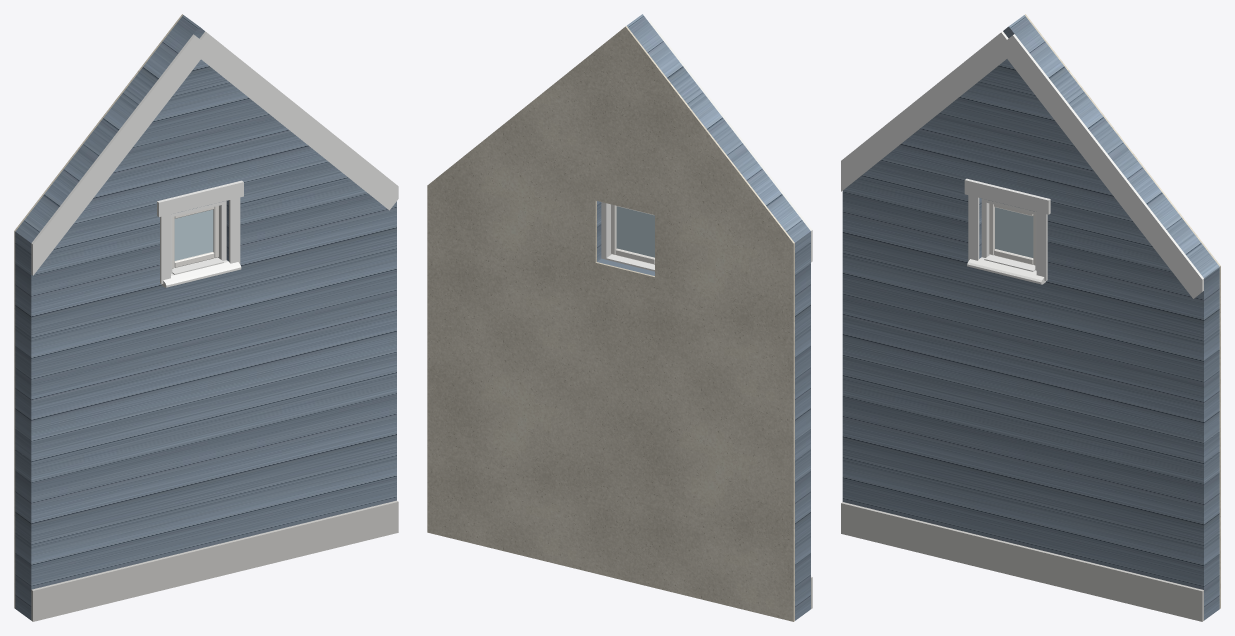
The model's file is garage_gable_back.glb.
3 views of the same model, side by side, from view 1: azimuth 30°, elevation 25°; view 2: azimuth 150°, elevation 25°; view 3: azimuth 330°, elevation 25° (orthographic).
Parts seen in each view (by area): view 1: garage_gable_back_siding, garage_gable_back_trim, garage_gable_back_concrete, garage_gable_back_glass, garage_gable_back_plaster, garage_gable_back_sash, garage_gable_back_frame; view 2: garage_gable_back_plaster, garage_gable_back_siding, garage_gable_back_glass, garage_gable_back_trim, garage_gable_back_sash, garage_gable_back_frame; view 3: garage_gable_back_siding, garage_gable_back_trim, garage_gable_back_concrete, garage_gable_back_glass, garage_gable_back_plaster, garage_gable_back_sash, garage_gable_back_frame.
Part boxes in pixels (x1,y1,x2,y2): garage_gable_back_siding: [15, 15, 396, 620]; garage_gable_back_trim: [31, 31, 398, 287]; garage_gable_back_concrete: [31, 500, 398, 621]; garage_gable_back_glass: [174, 209, 213, 260]; garage_gable_back_plaster: [14, 14, 182, 608]; garage_gable_back_sash: [172, 205, 218, 268]; garage_gable_back_frame: [171, 201, 226, 273]; garage_gable_back_plaster: [427, 26, 794, 621]; garage_gable_back_siding: [597, 14, 810, 620]; garage_gable_back_glass: [616, 206, 654, 257]; garage_gable_back_trim: [606, 20, 812, 271]; garage_gable_back_sash: [611, 204, 654, 264]; garage_gable_back_frame: [601, 202, 611, 259]; garage_gable_back_siding: [842, 15, 1219, 620]; garage_gable_back_trim: [841, 31, 1203, 298]; garage_gable_back_concrete: [841, 502, 1203, 621]; garage_gable_back_glass: [995, 207, 1033, 257]; garage_gable_back_plaster: [1025, 14, 1220, 608]; garage_gable_back_sash: [989, 203, 1035, 265]; garage_gable_back_frame: [981, 198, 1036, 270].
Size of the model in its own units: 3.7 by 5.35 by 0.38.
Materials: 7 (2 with a texture image).
